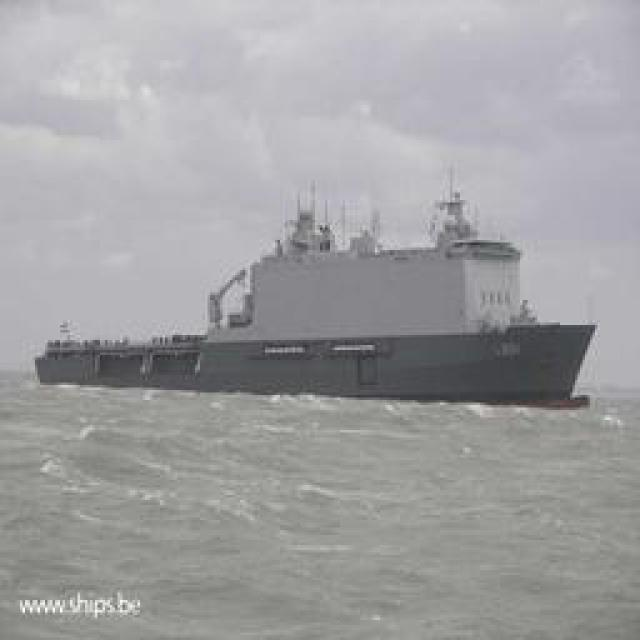Ship: (64, 171, 594, 396)
